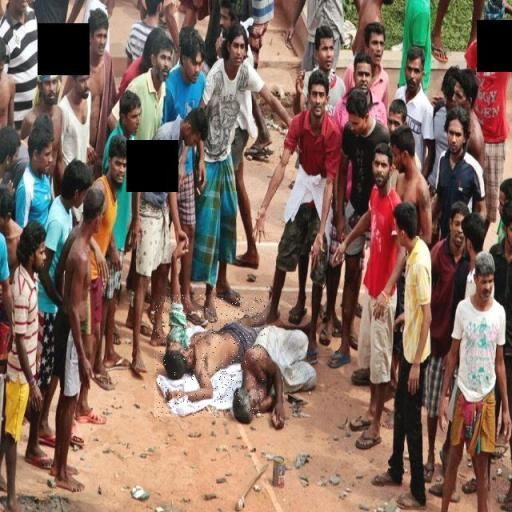Fall: (155, 294, 267, 417)
